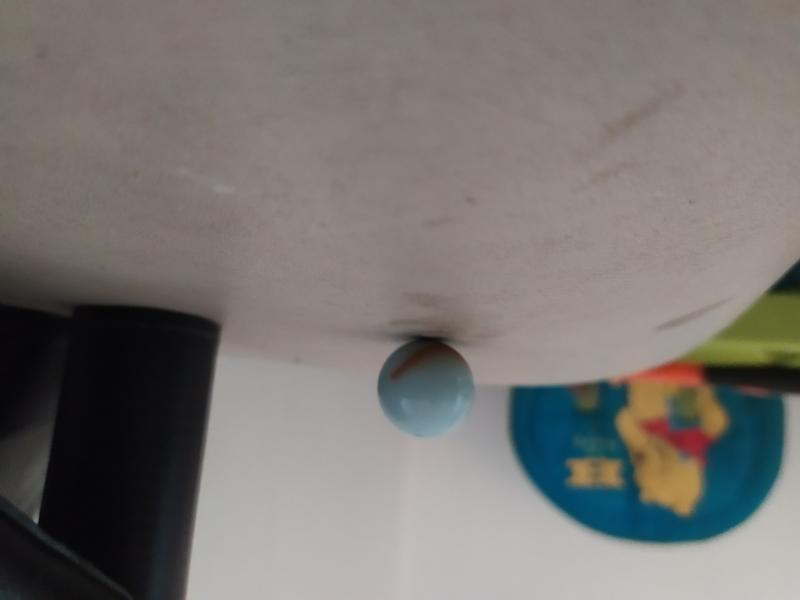Warning: (376, 337, 479, 442)
